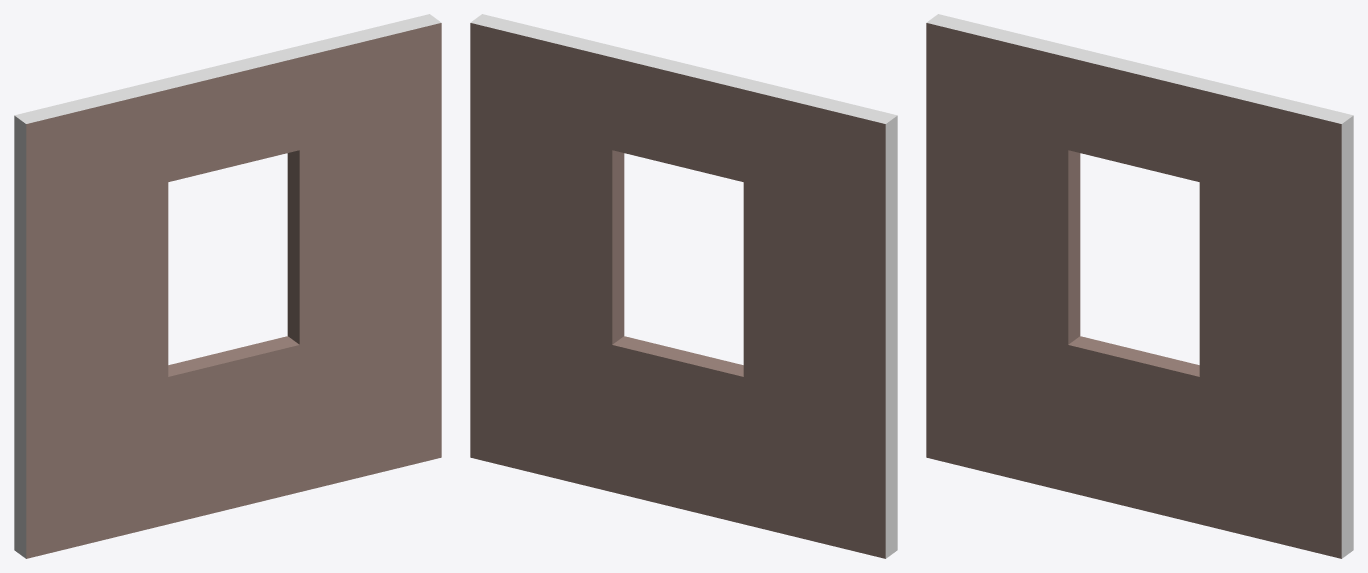
Rendered from wall_010.fbx.
3 renders of one model, left to right at view 1: azimuth 30°, elevation 25°; view 2: azimuth 150°, elevation 25°; view 3: azimuth 330°, elevation 25°, orthographic.
Visible parts, largest first — view 1: wall_010; view 2: wall_010; view 3: wall_010.
Boxes of the visible parts, <box> form: wall_010: <box>14,14,441,558</box>; wall_010: <box>470,14,897,558</box>; wall_010: <box>926,14,1353,558</box>.
Bounding box in the file's own units: 400 × 20 × 400.
